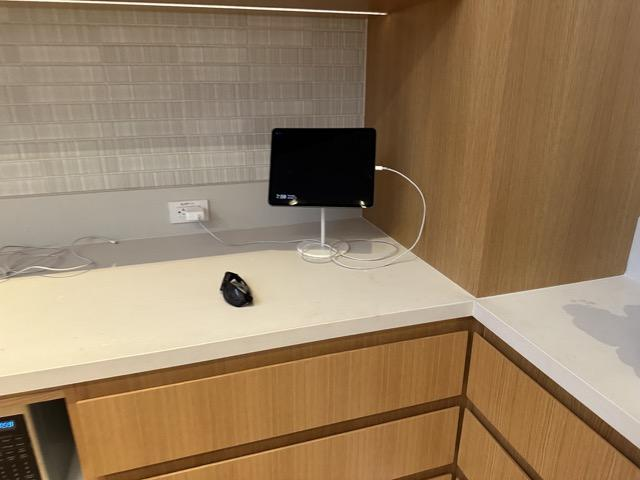Sunglasses: (219, 271, 256, 310)
